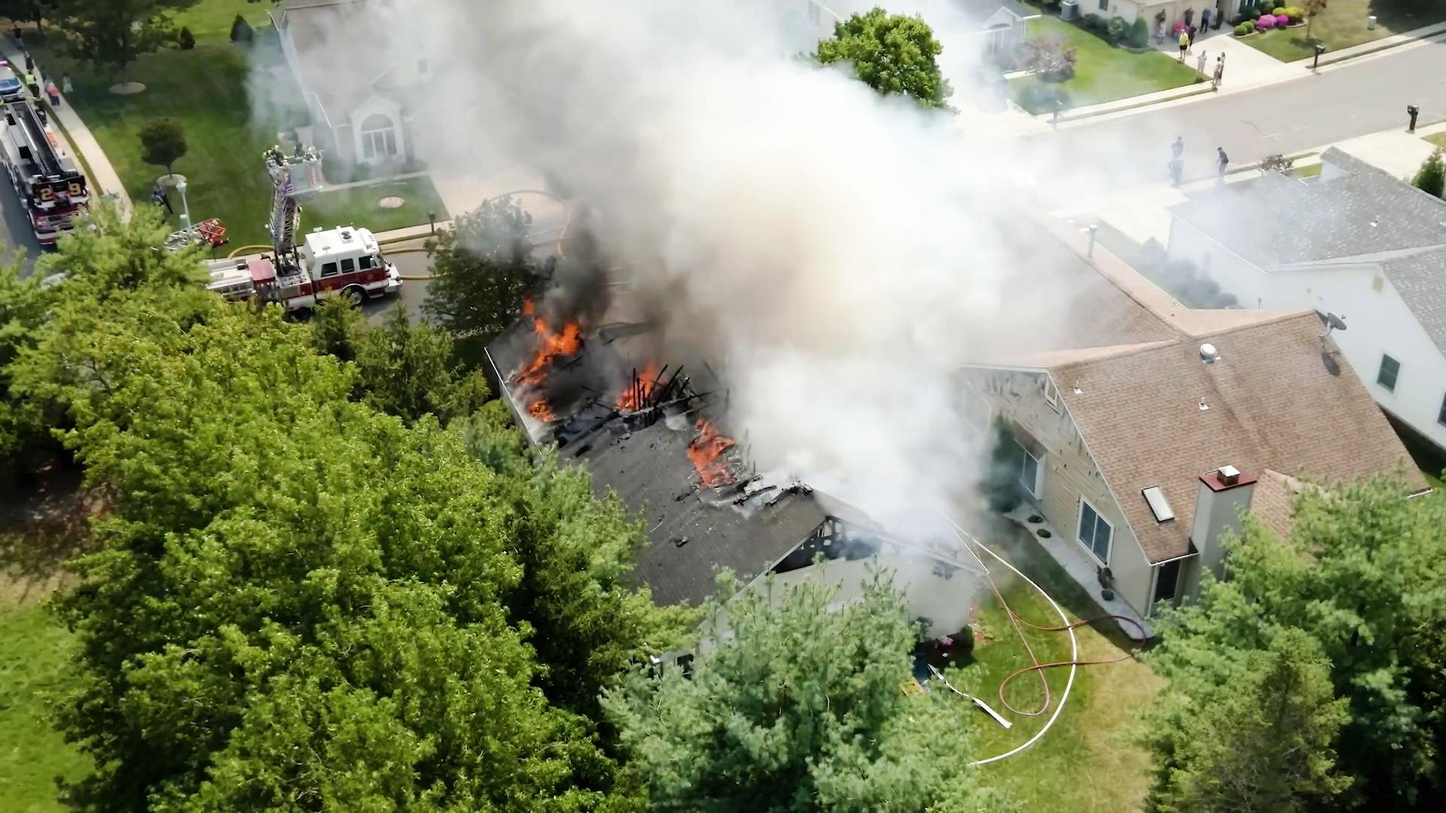smoke: (733, 110, 967, 449), (522, 17, 795, 173)
